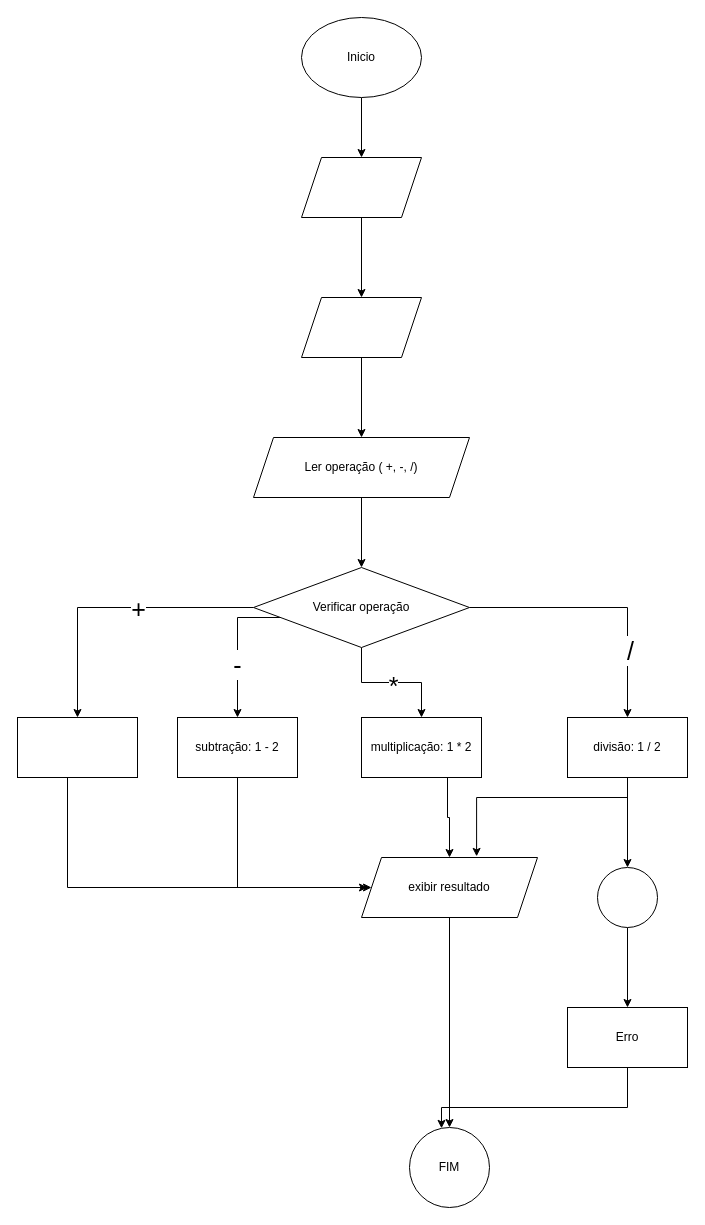
Image size: 705x1225. Some labels were removed from this diagram. The box of each missing label's shape, as (x1, y1, x2, y2) in pixels:
Ler numero !: (300, 156, 422, 218)
Ler numero 2: (300, 296, 422, 358)
se 2 = 0: (596, 866, 658, 928)
soma: num1 + num2: (16, 716, 138, 778)
